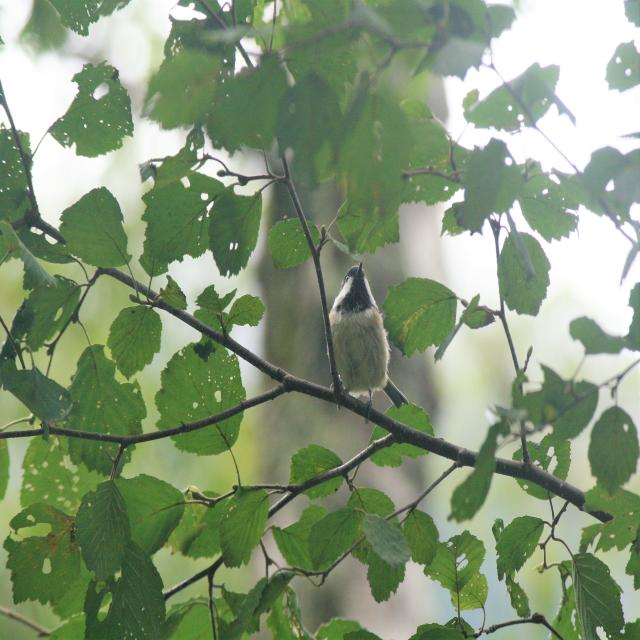bird: (319, 263, 393, 422)
